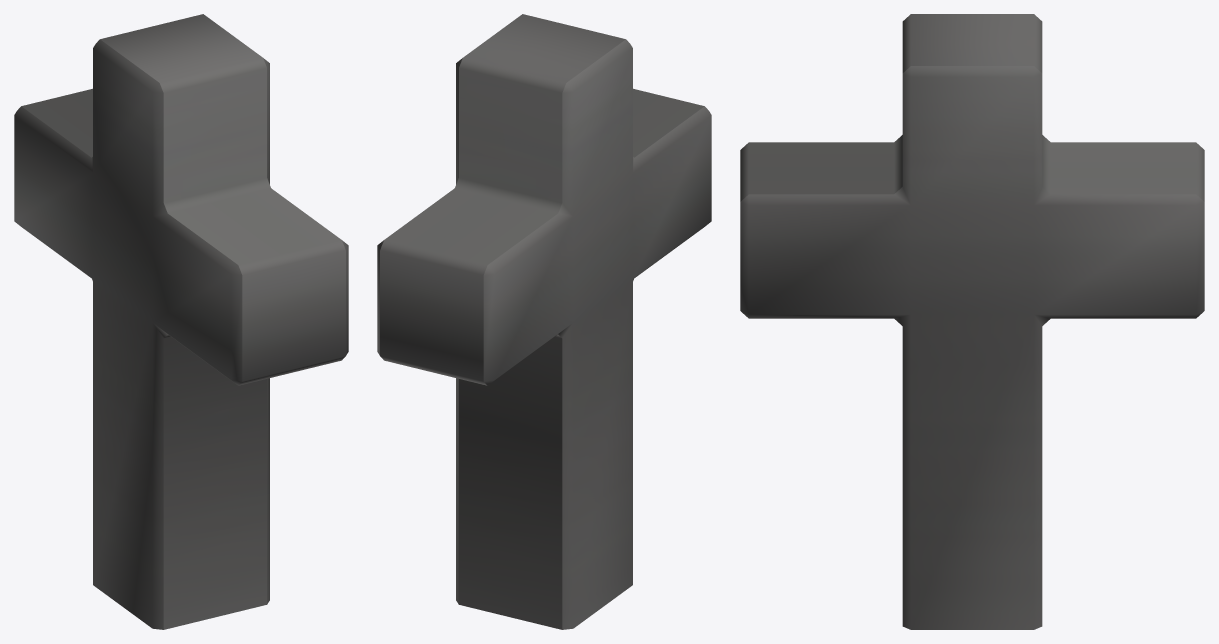
Rendered from Cross_1_1.obj.
3 renders of one model, left to right at view 1: azimuth 30°, elevation 25°; view 2: azimuth 150°, elevation 25°; view 3: azimuth 270°, elevation 25°, orthographic. The views are drawn at different scales.
Parts seen in each view (by area): view 1: Cross_1_1; view 2: Cross_1_1; view 3: Cross_1_1.
Part boxes in pixels (<box>): Cross_1_1: <box>14,14,348,629</box>; Cross_1_1: <box>377,14,711,629</box>; Cross_1_1: <box>740,14,1204,629</box>.
Bounding box in the file's own units: 0.2195 × 0.971 × 0.7287.
